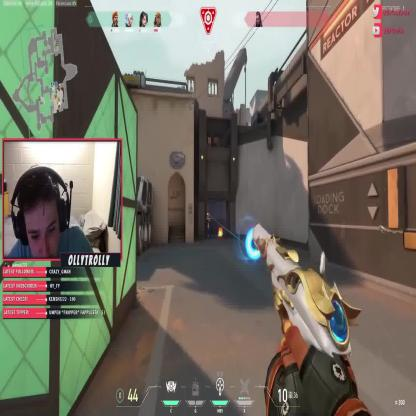enemy: (206, 212, 210, 237)
enemy_head: (206, 212, 210, 218)
